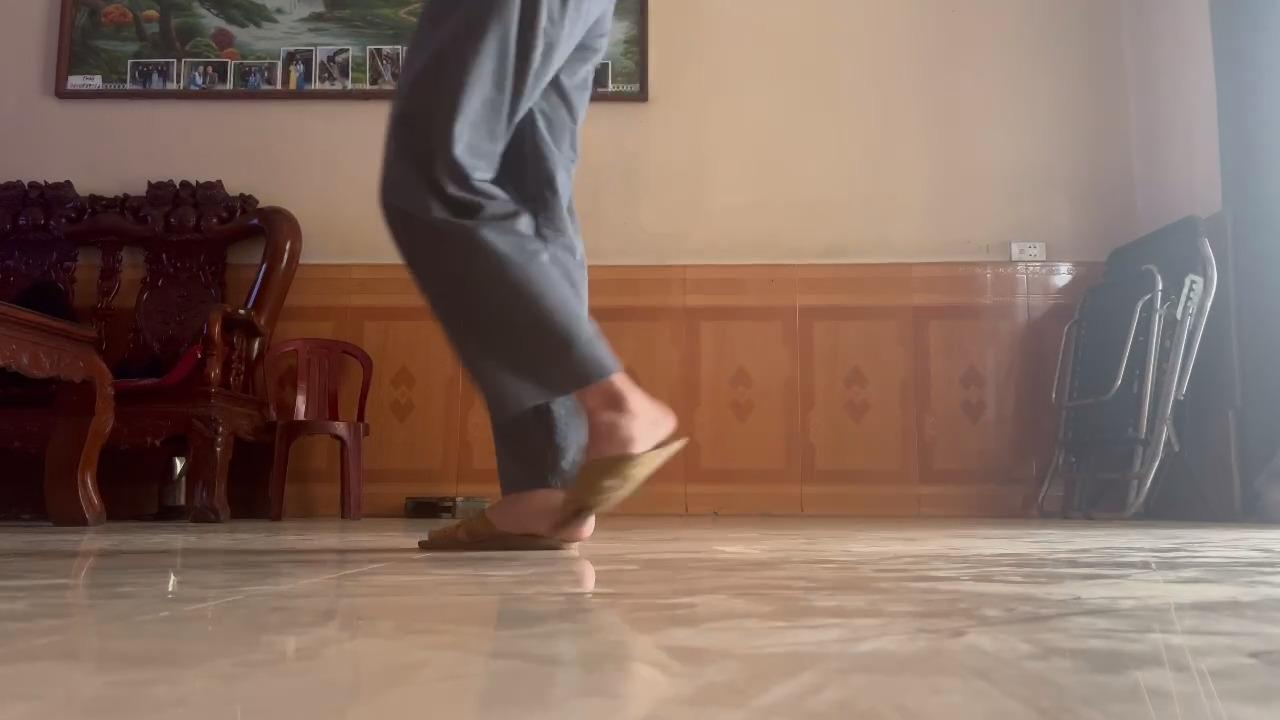no-boot: (548, 400, 697, 546), (415, 490, 601, 559)
